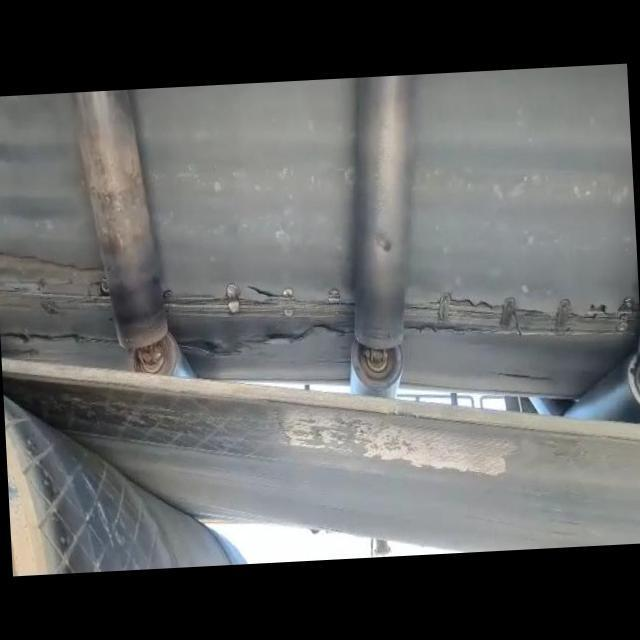Tear: (152, 276, 358, 357), (395, 280, 640, 348), (0, 250, 119, 358)
